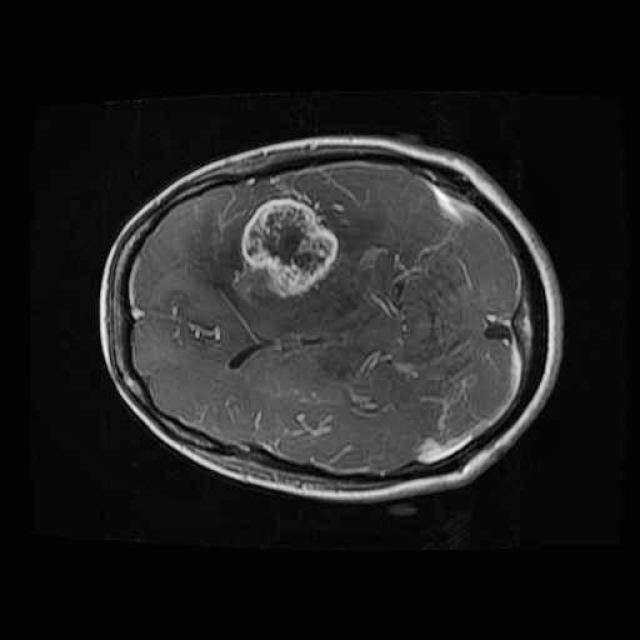Non-Tumor: (229, 188, 355, 310)
